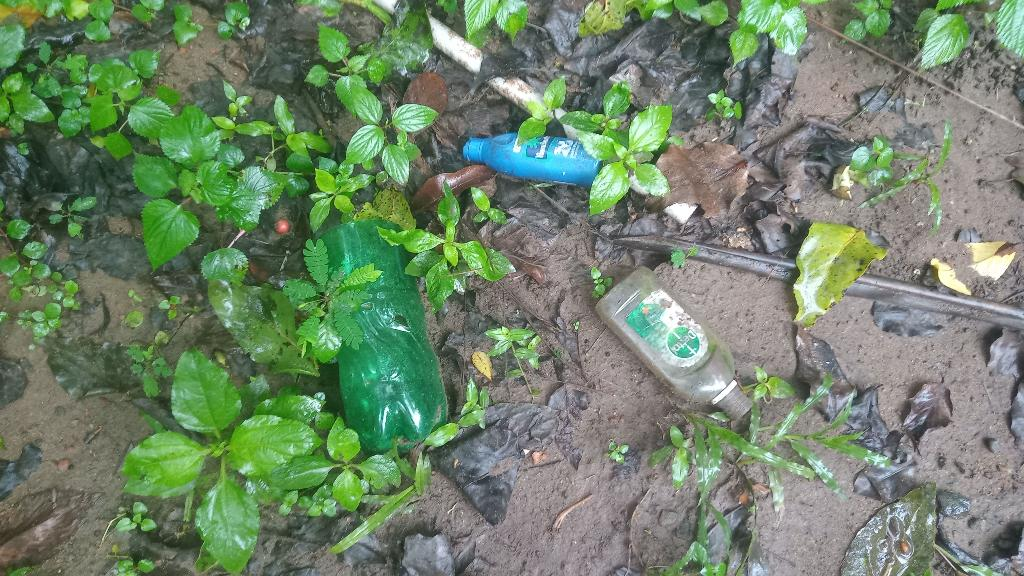garbage: (319, 215, 450, 463), (594, 271, 783, 440), (456, 131, 614, 198)
